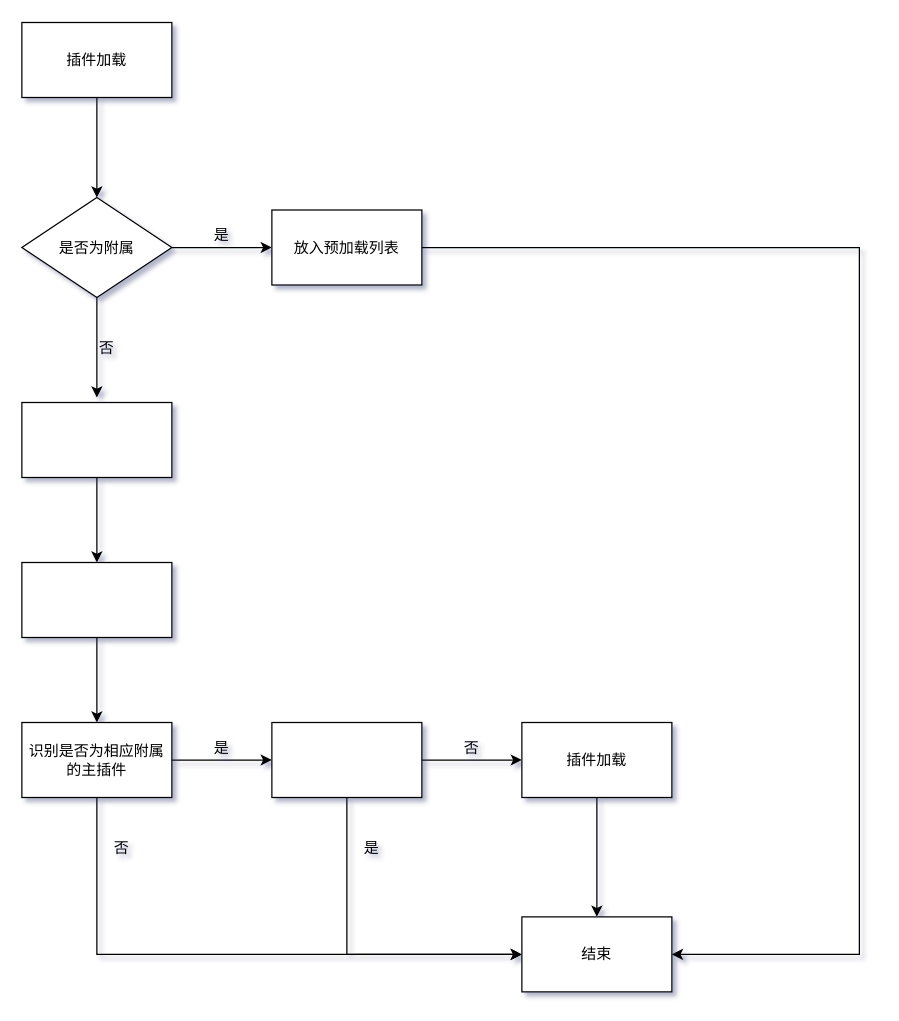
Image size: 899x1021. Some labels were removed from this diagram. The centre of each missing label's shape, as x and y in pixels:
"加载插件" goes at point 96,439.
"唤醒相应预加载列表" goes at point 96,599.
"是否还有必须的依赖" goes at point 346,759.
